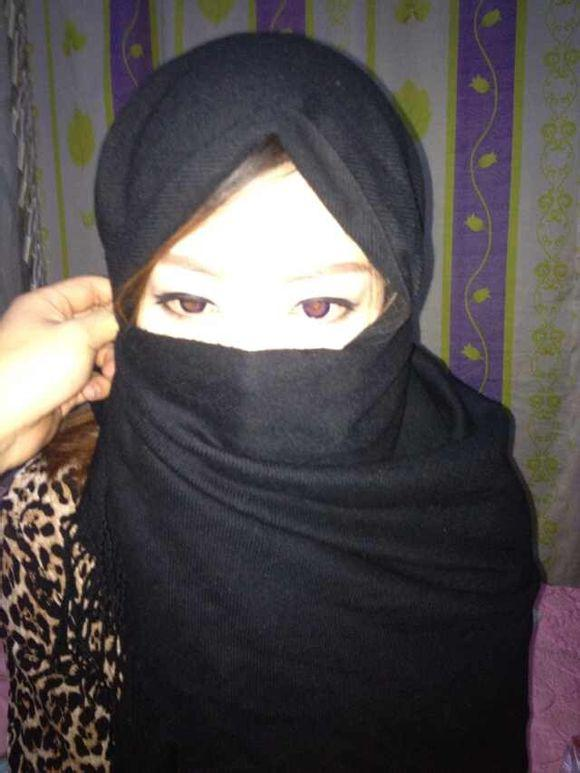OK: (119, 235, 398, 514)
